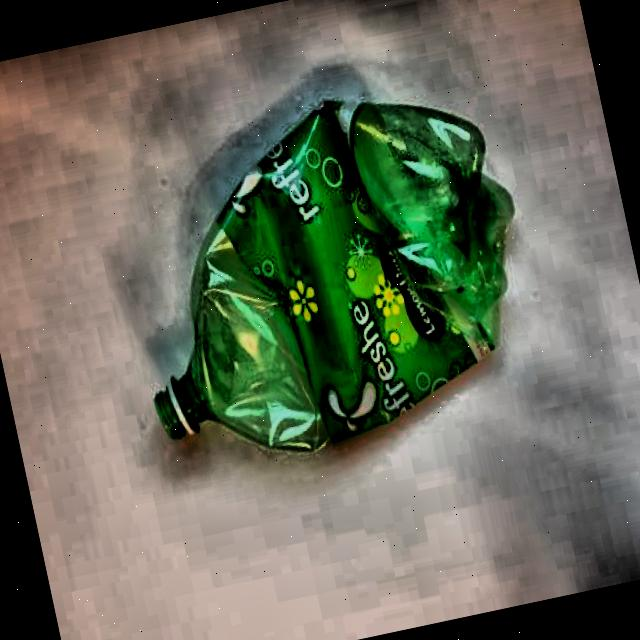plastic: (99, 71, 544, 481)
